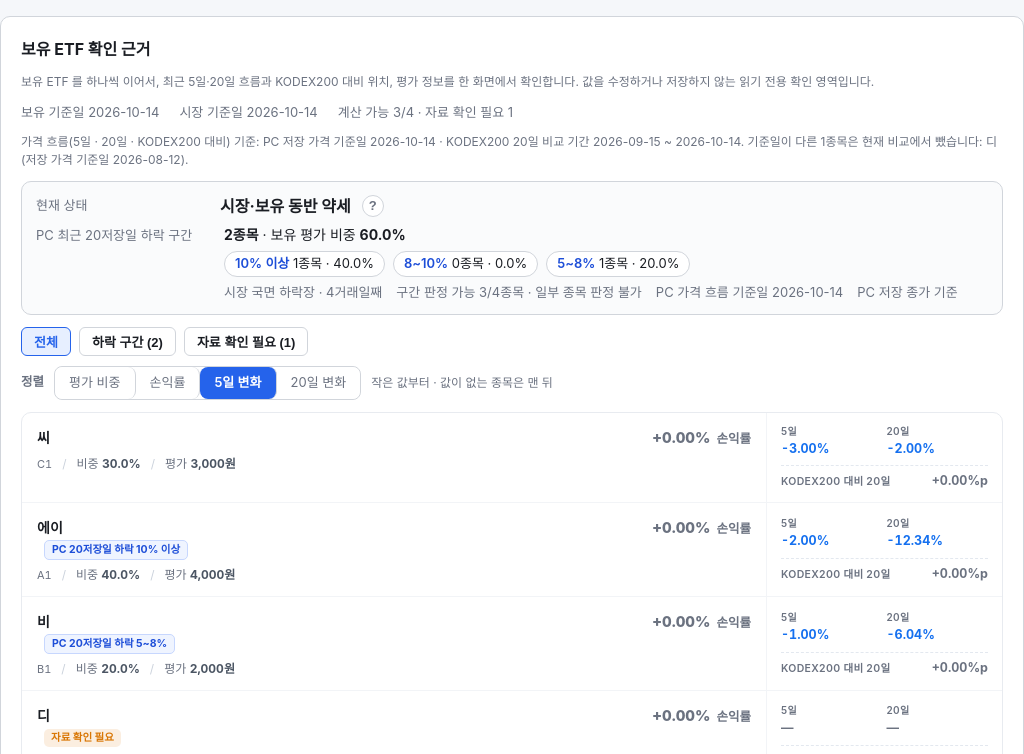
Test case: 확인 근거 — 종목 상세 가격 흔들림 (POC5-16) › 세 묶음에 가격 흔들림 값 · 비교가 바로 보인다 · ? · 다시 조회하지 않는다
The image size is (1024, 754).
Click the button with aria-label "에이 상세 보기" at (116, 550), box [22,503,1002,597]
(page scrolled)
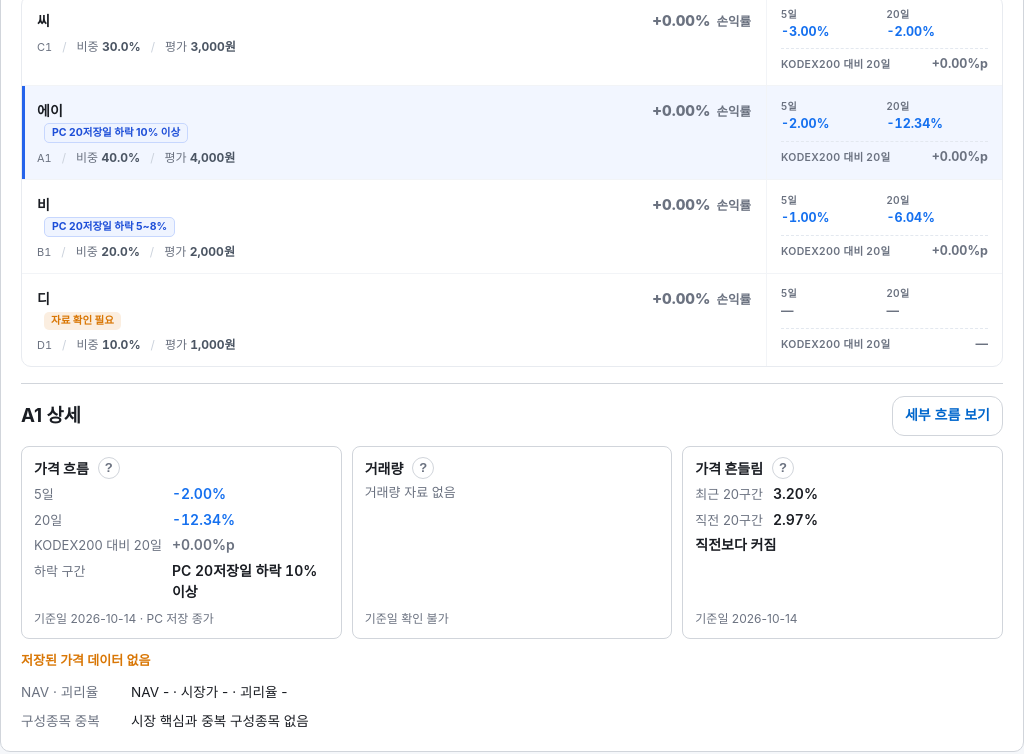
Result: the element with test id "detail-flows" is shown at [21,396,1003,436]
Result: the number of buttons "세부 흐름 보기" is 1 at [892,396,1003,436]
Result: the text with class "evg-foot" reads "기준일 2026-10-14" at [695,611,798,626]
Click the button named "가격 흔들림 도움말" at (783, 468), box [763,448,803,488]
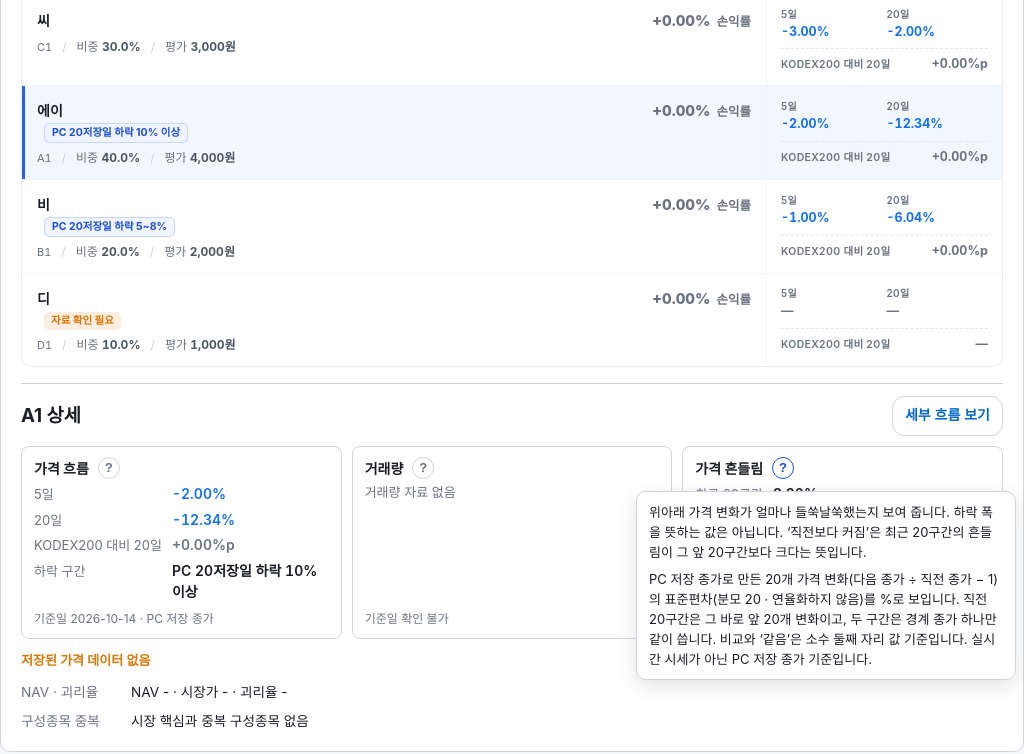
Result: the dialog named "가격 흔들림 도움말" is shown at [636,491,1016,680]
Click the button "세부 흐름 보기" at (947, 416), box [892,396,1003,436]
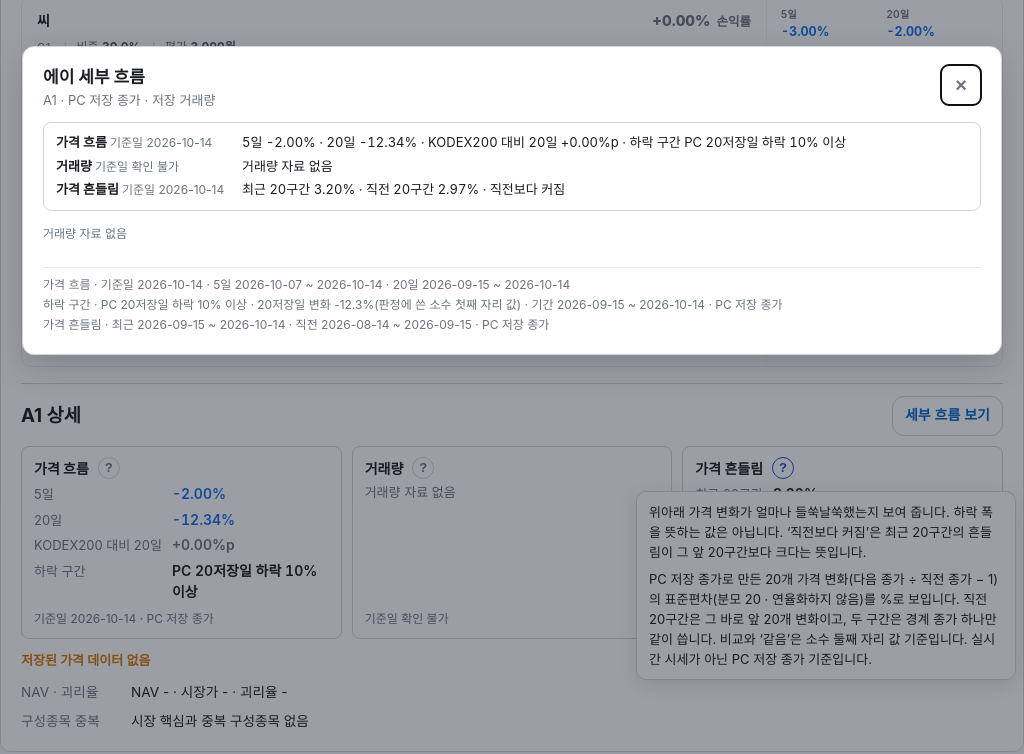
Result: the element with test id "detail-flows-body" shows "최근 2026-09-15 ~ 2026-10-14 · 직전 2026-08-14 ~ 2026-09-15 · PC 저장 종가" at [112,317,549,332]
